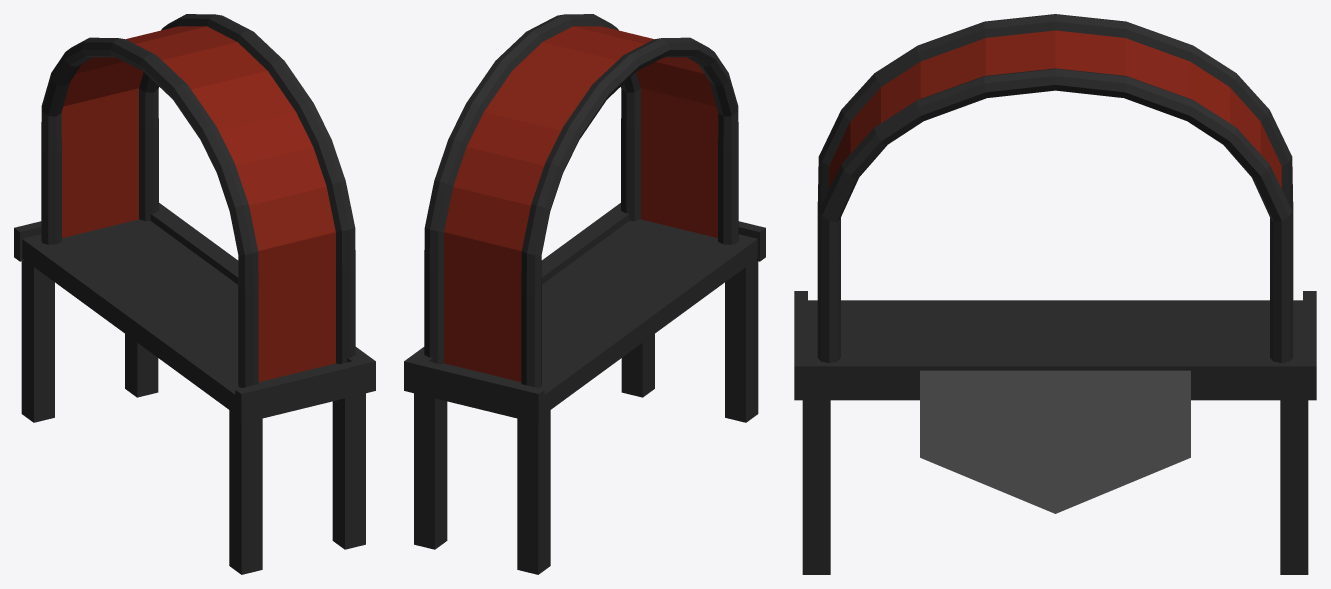
Rendered from MenuShop_Table.fbx.
3 renders of one model, left to right at view 1: azimuth 30°, elevation 25°; view 2: azimuth 150°, elevation 25°; view 3: azimuth 270°, elevation 25°, orthographic. The views are drawn at different scales.
Parts seen in each view (by area): view 1: Cylinder.001, Cube, Cube.001, Cube.002; view 2: Cylinder.001, Cube, Cube.001, Cube.002; view 3: Cylinder.001, Plane, Cube, Cube.002, Cube.001.
Part boxes in pixels (box(x1,y1,x2,y2)): Cylinder.001: box(41, 14, 355, 387); Cube: box(22, 219, 338, 413); Cube.001: box(21, 260, 365, 574); Cube.002: box(14, 203, 375, 423); Cylinder.001: box(424, 14, 738, 387); Cube: box(441, 219, 757, 413); Cube.001: box(414, 260, 758, 574); Cube.002: box(404, 203, 765, 423); Cylinder.001: box(817, 14, 1293, 363); Plane: box(920, 370, 1190, 513); Cube: box(808, 300, 1302, 356); Cube.002: box(794, 291, 1316, 400); Cube.001: box(802, 400, 1308, 574).
Size of the model in its own units: 213 by 650 by 615.
